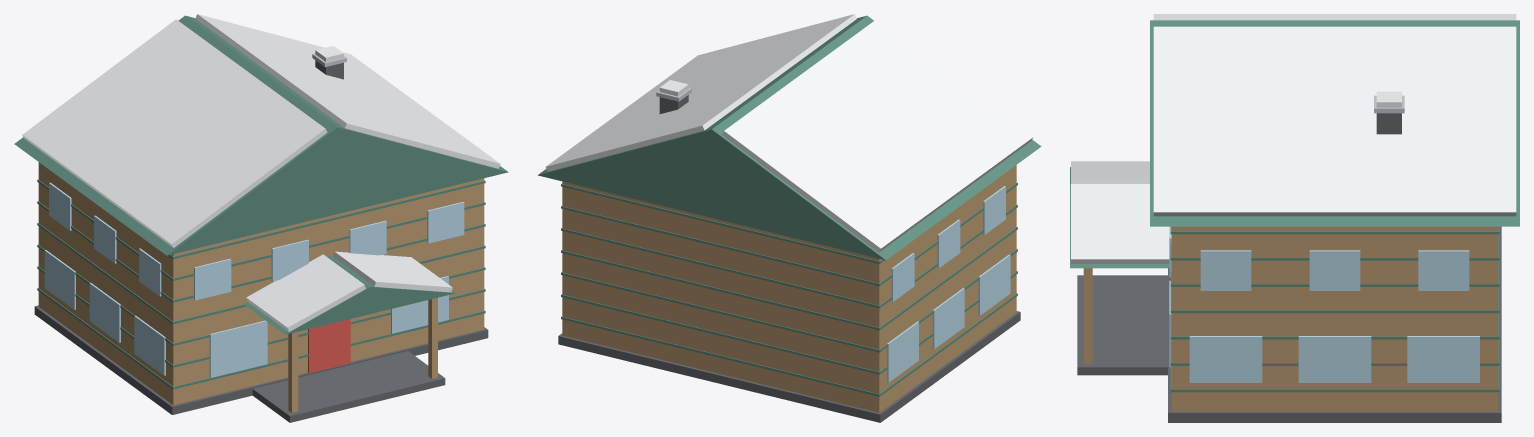
File: lodge.glb
3 renders of one model, left to right at view 1: azimuth 30°, elevation 25°; view 2: azimuth 150°, elevation 25°; view 3: azimuth 270°, elevation 25°, orthographic. The views are drawn at different scales.
Visible parts, largest first — view 1: lodge-hall; view 2: lodge-hall; view 3: lodge-hall.
Boxes of the visible parts, box(x1,y1,x2,y2) form: lodge-hall: box(14, 14, 508, 422); lodge-hall: box(538, 14, 1041, 422); lodge-hall: box(1070, 14, 1519, 422).
Bounding box in the file's own units: 13.2 × 9.4 × 12.4.
